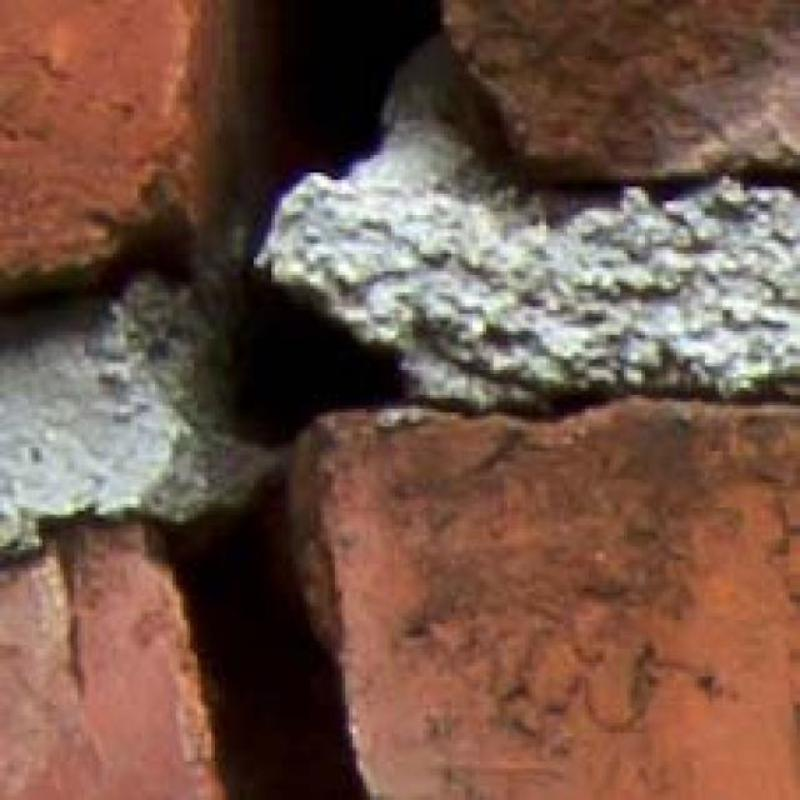crack: (197, 0, 441, 443), (144, 470, 367, 799), (438, 72, 799, 215), (0, 242, 194, 330), (400, 381, 799, 422)
